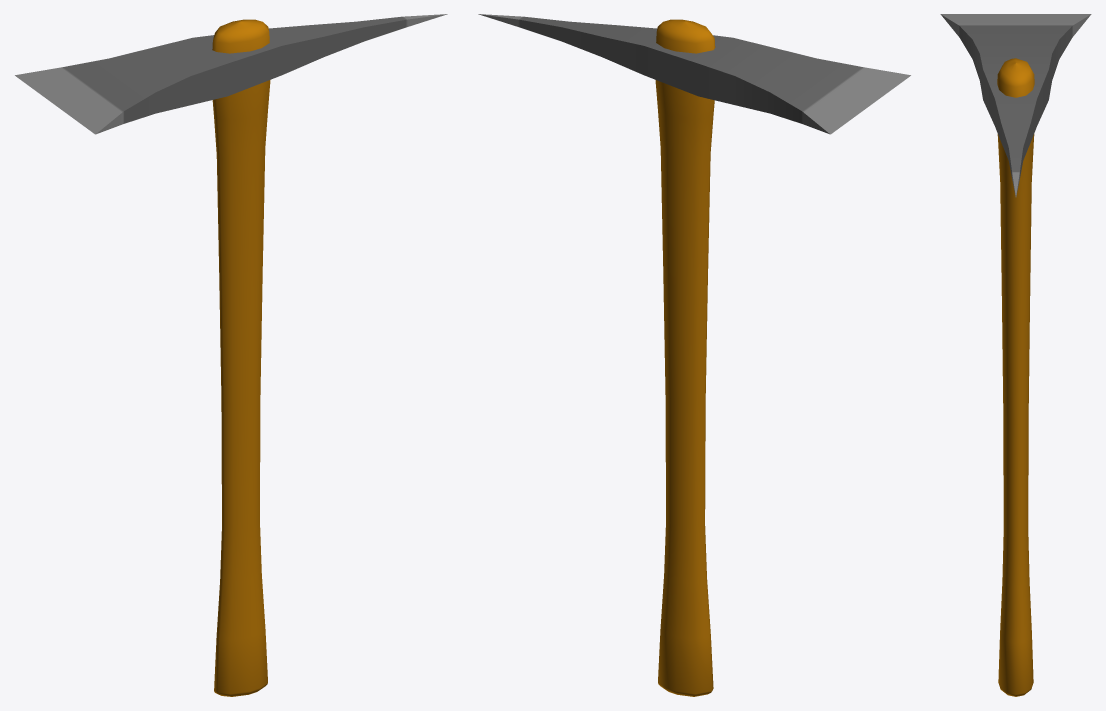
Rendered from Pick Axe.fbx.
3 views of the same model, side by side, from view 1: azimuth 30°, elevation 25°; view 2: azimuth 150°, elevation 25°; view 3: azimuth 270°, elevation 25° (orthographic). The views are drawn at different scales.
Parts seen in each view (by area): view 1: Cube_1; view 2: Cube_1; view 3: Cube_1.
Boxes of the visible parts, left/top/right/bottom form: Cube_1: left=15, top=14, right=447, bottom=696; Cube_1: left=478, top=14, right=910, bottom=696; Cube_1: left=940, top=14, right=1091, bottom=696.
Bounding box in the file's own units: 710 × 1154 × 253.
1 material, 1 textured.
